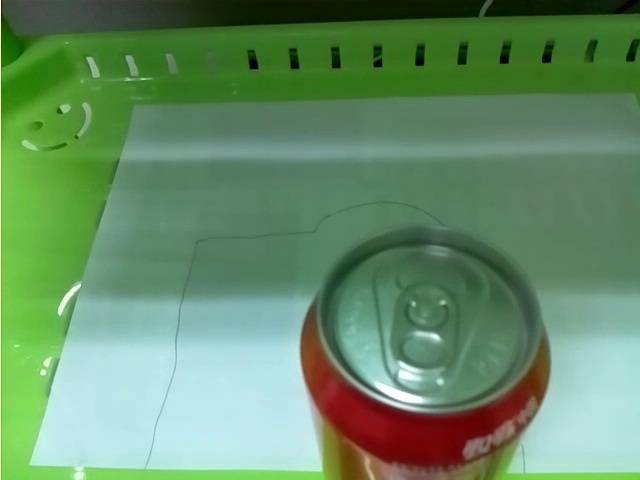cocacola: (296, 224, 552, 479)
